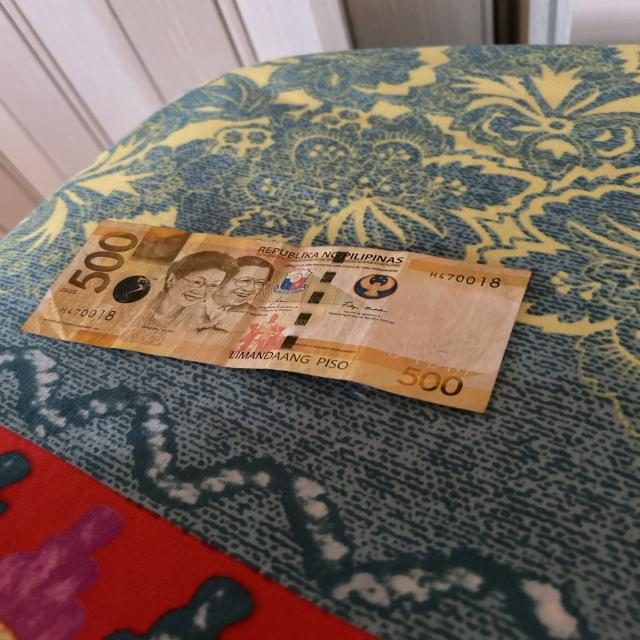concealed_value: (144, 227, 185, 260)
optically_variable_device: (115, 275, 150, 306)
value: (60, 227, 134, 300)
watermark: (378, 273, 507, 364)
